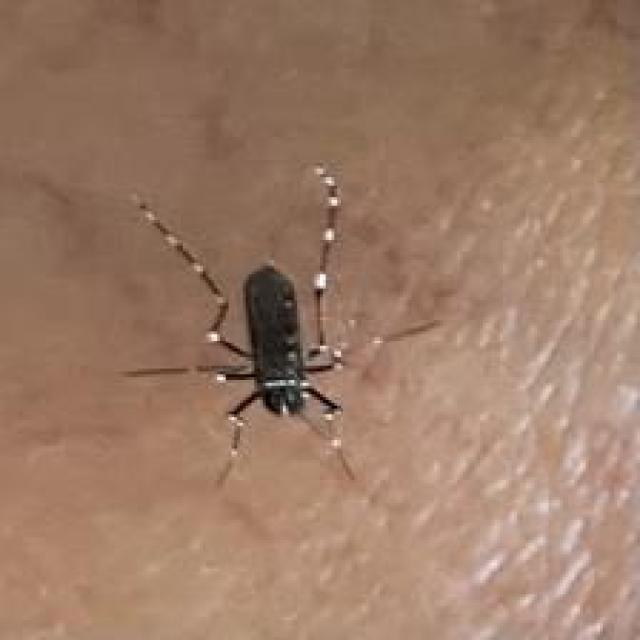Aedes albopictus: (121, 160, 442, 489)
